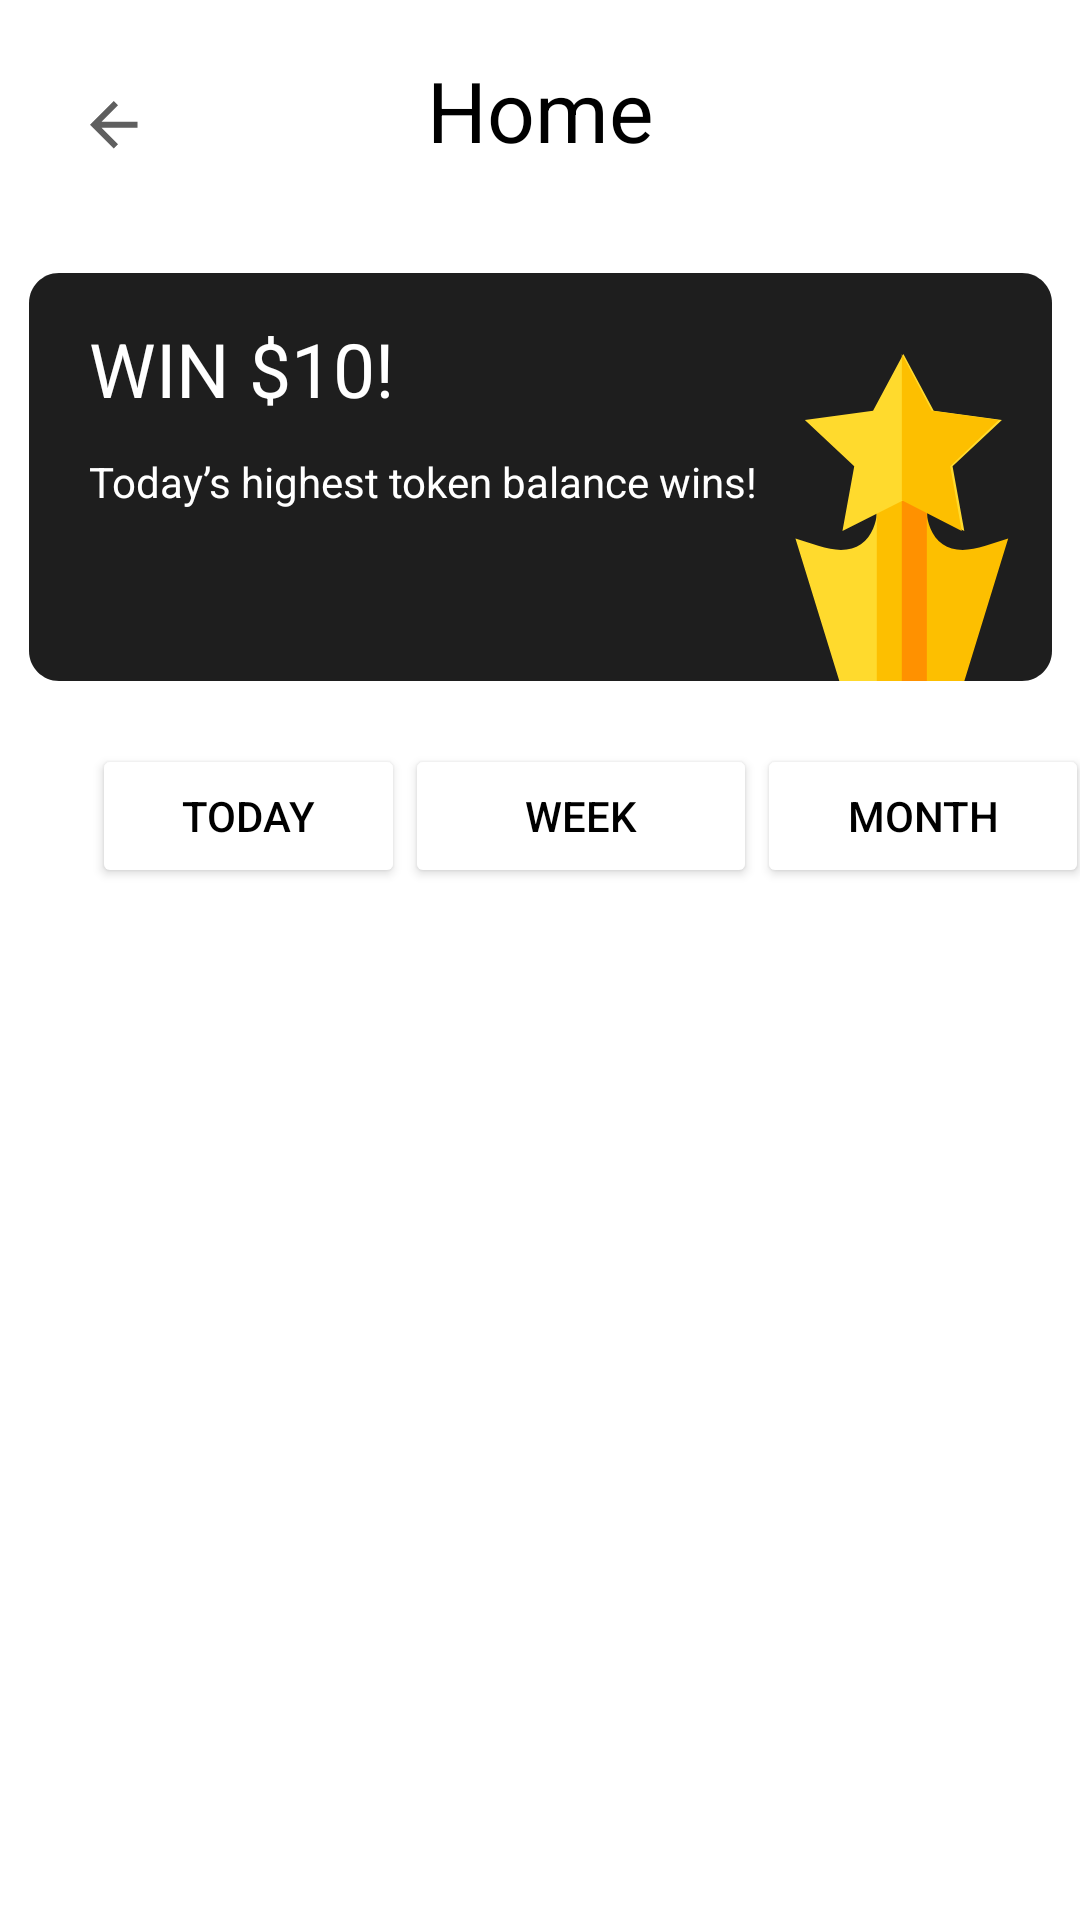

Where to tap for icons on this 1080x1920 app screen, as point (x, y):
Back arrow button: point (114, 125)
